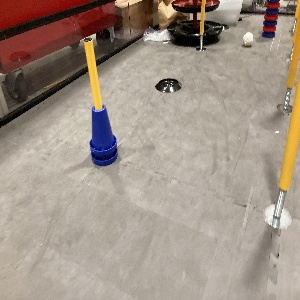Blue_2: (86, 102, 118, 165)
